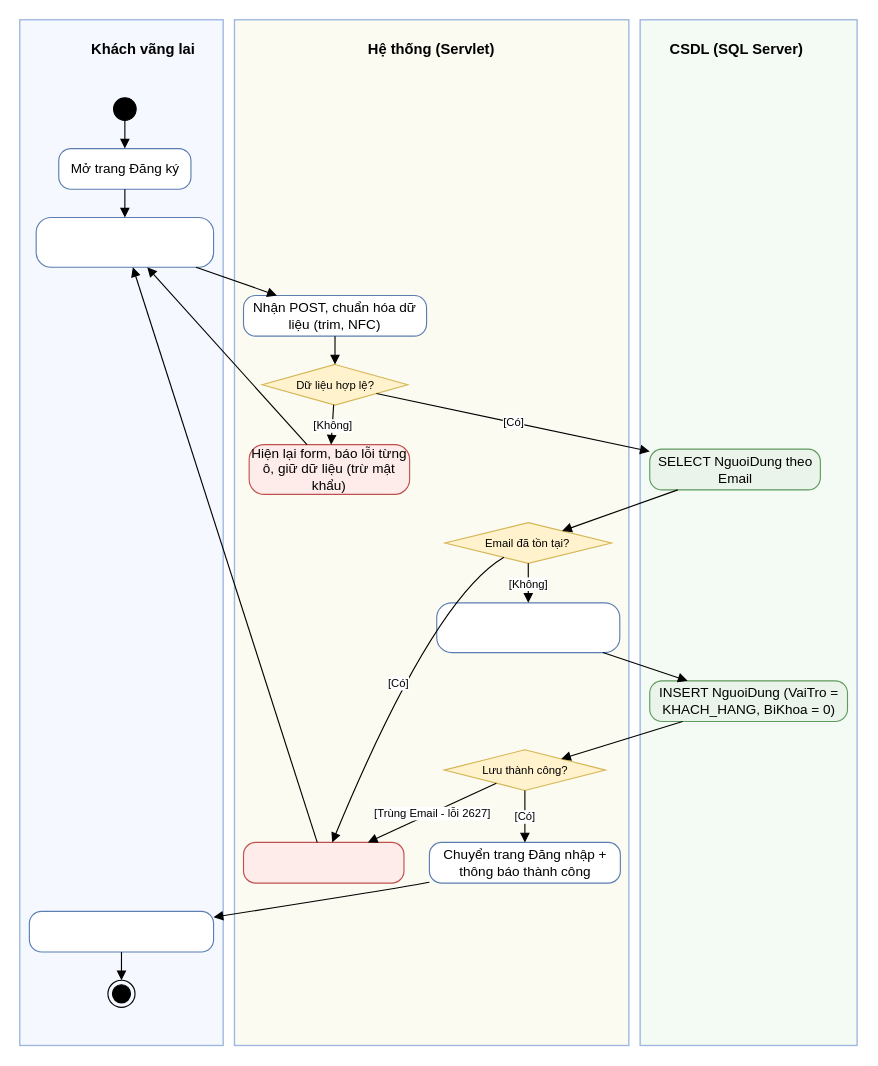
Image size: 878x1066. Some labels were removed from this diagram. The shapes that lost their labels are listed below. From the top down, each one's centre as x and y in pixels, then its label:
point (124, 241): Nhập họ tên, email, SĐT, mật khẩu, nhập lại mật khẩu; bấm Đăng ký
point (528, 627): Sinh salt ngẫu nhiên, băm mật khẩu PBKDF2-HMAC-SHA256
point (323, 862): Báo "Email đã được sử dụng"
point (121, 931): Đăng nhập bằng tài khoản mới
